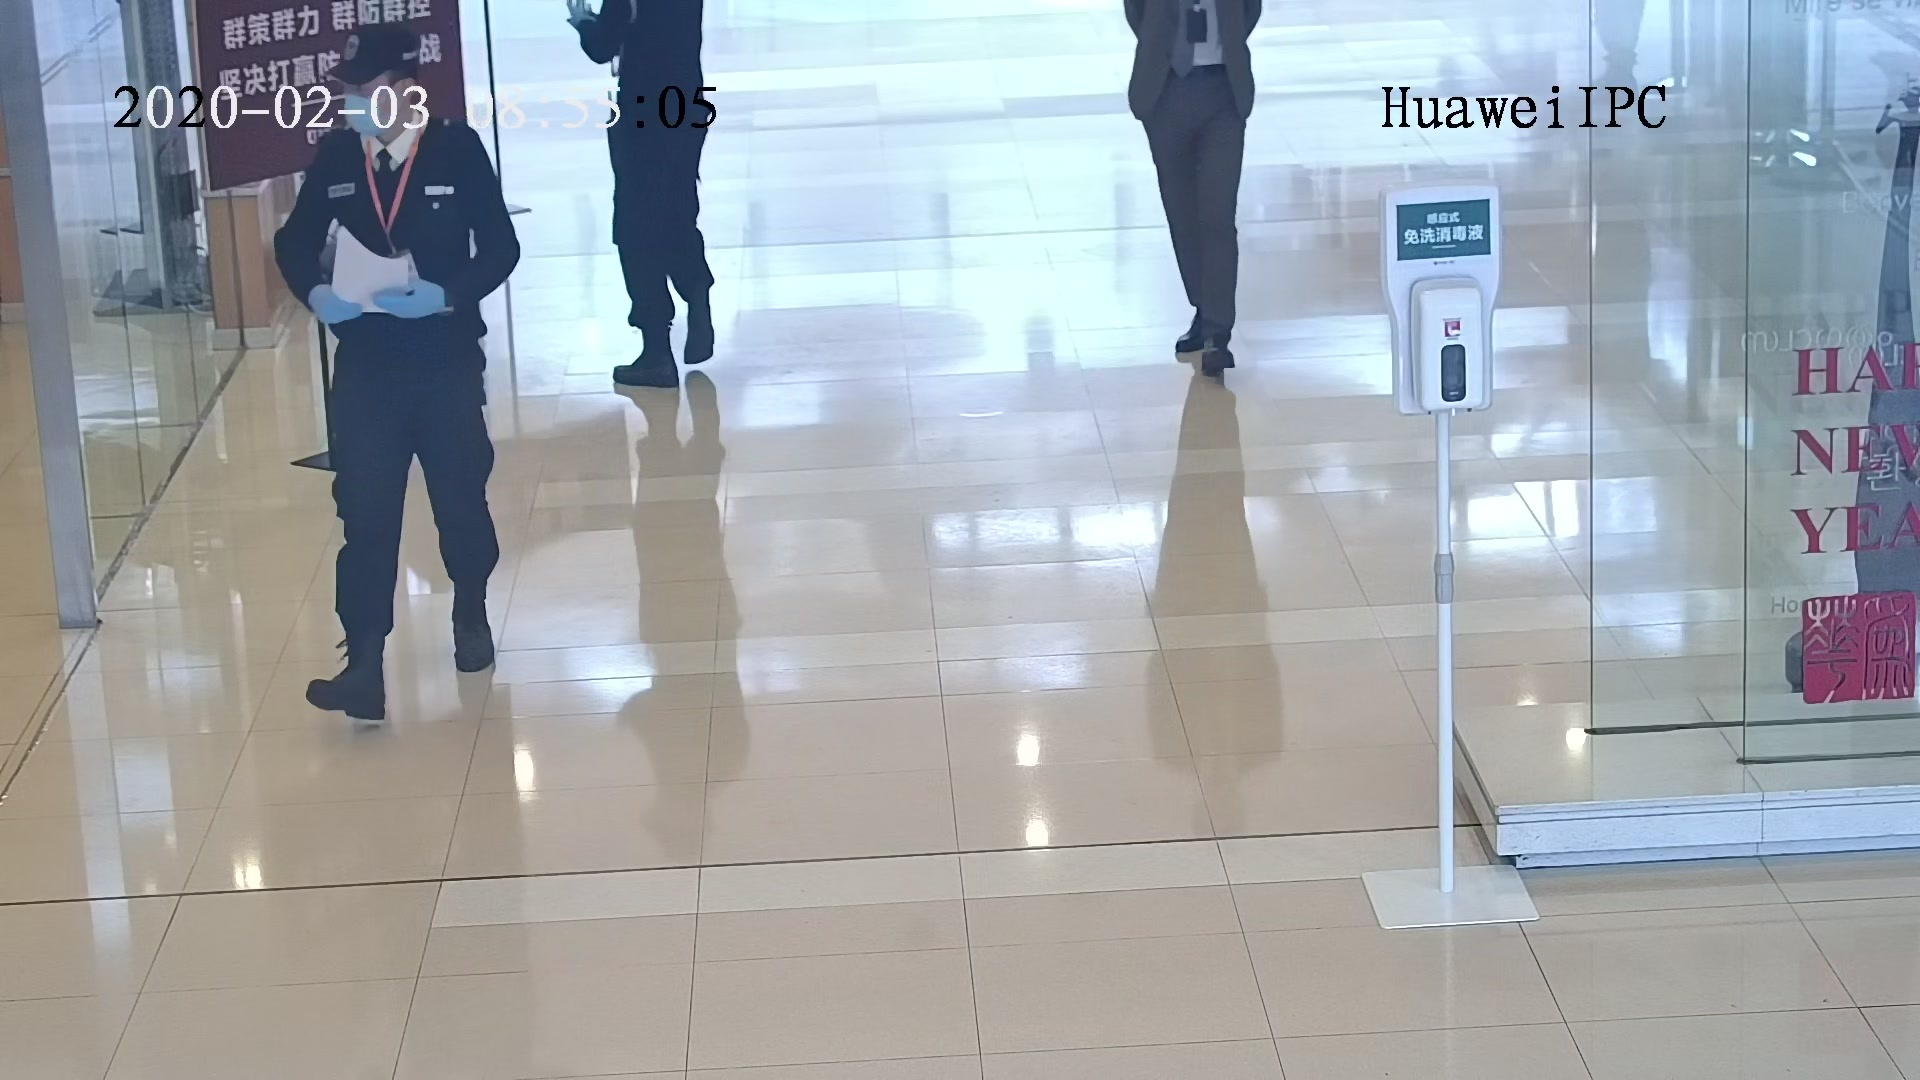face: (340, 66, 402, 144)
mask: (346, 94, 390, 136)
person: (302, 15, 492, 200)
